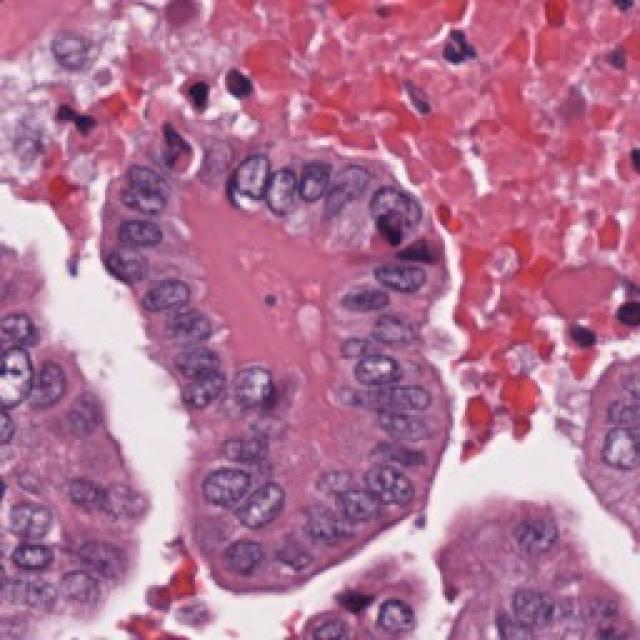abnormal: (367, 175, 438, 260), (105, 155, 183, 223), (0, 324, 53, 423), (223, 347, 292, 423), (355, 257, 440, 318), (227, 468, 295, 542), (353, 452, 430, 513), (190, 458, 253, 522), (268, 517, 324, 585), (115, 275, 205, 317), (338, 345, 420, 390), (262, 143, 298, 237), (295, 136, 337, 216), (332, 155, 375, 230), (232, 132, 268, 212), (367, 577, 413, 633)
